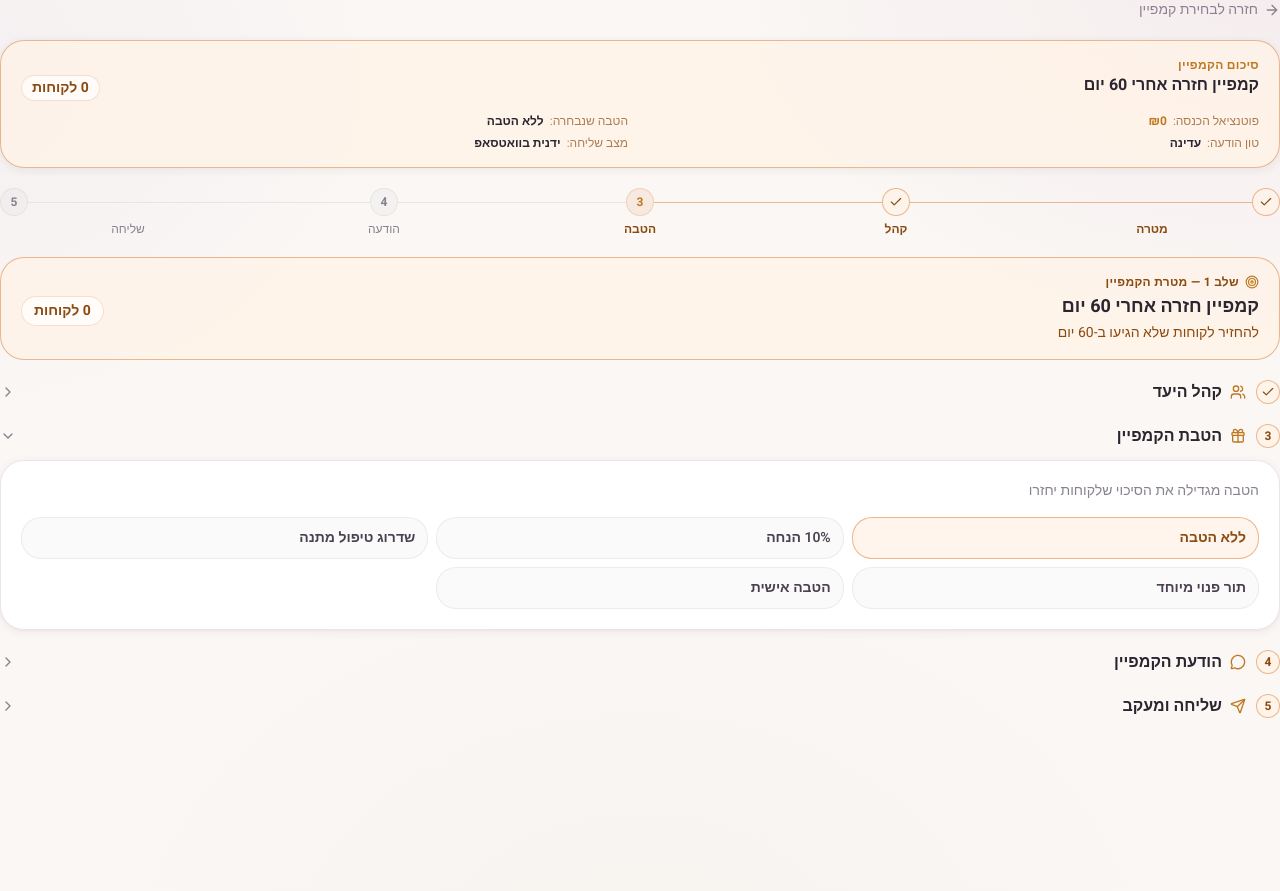
CampaignView — empty audiences & invalid phones › shows the empty send list for an empty campaign
Click the button "5 שליחה ומעקב". click: (1172, 706)
box: 0,694 -> 1279,718
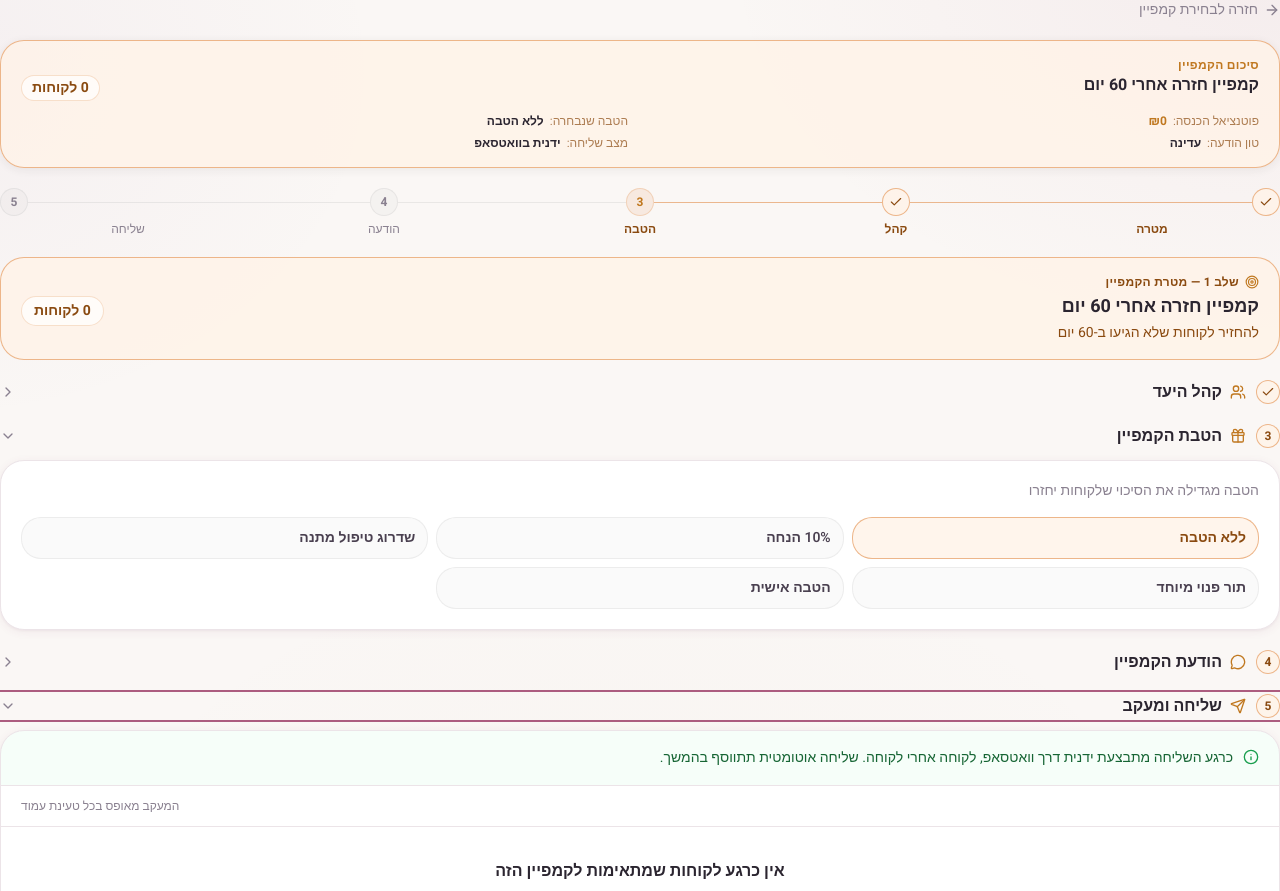
Expected: the text "אין כרגע לקוחות שמתאימות לקמפיין הזה" is shown, 495,859 -> 785,883
